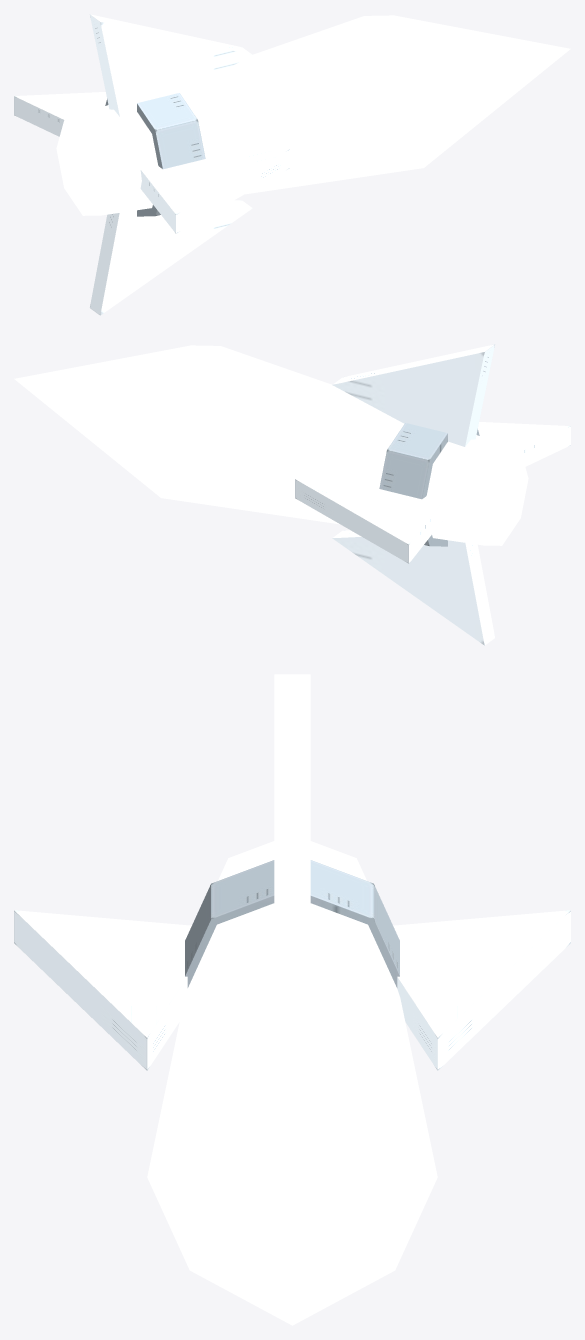
File: bolt.glb
3 renders of one model, top to bottom at view 1: azimuth 30°, elevation 25°; view 2: azimuth 150°, elevation 25°; view 3: azimuth 270°, elevation 25°, orthographic. The views are drawn at different scales.
Visible parts, largest first — view 1: bolt; view 2: bolt; view 3: bolt.
Boxes of the visible parts, box(x1,y1,x2,y2) form: bolt: box(14, 14, 570, 315); bolt: box(14, 344, 570, 645); bolt: box(14, 674, 570, 1325).
Size of the model in its own units: 0.16 by 0.092 by 0.092.
Materials: 3 (3 with a texture image).
